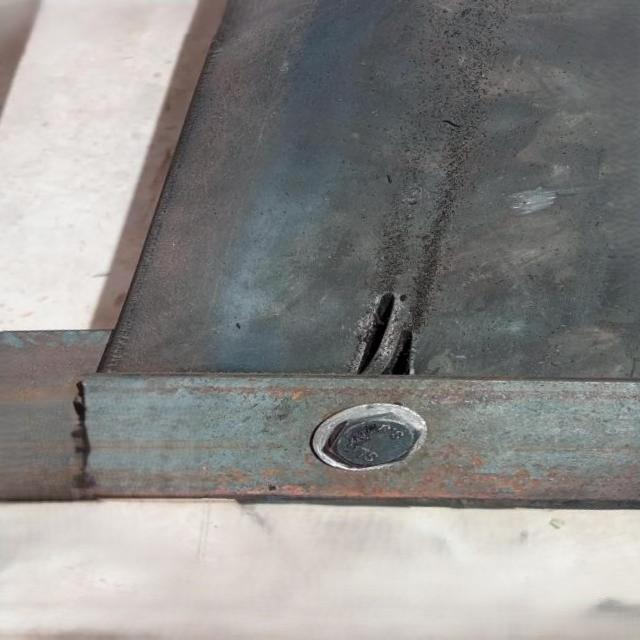Tear: (352, 288, 400, 384), (376, 320, 422, 380), (440, 114, 465, 130)
